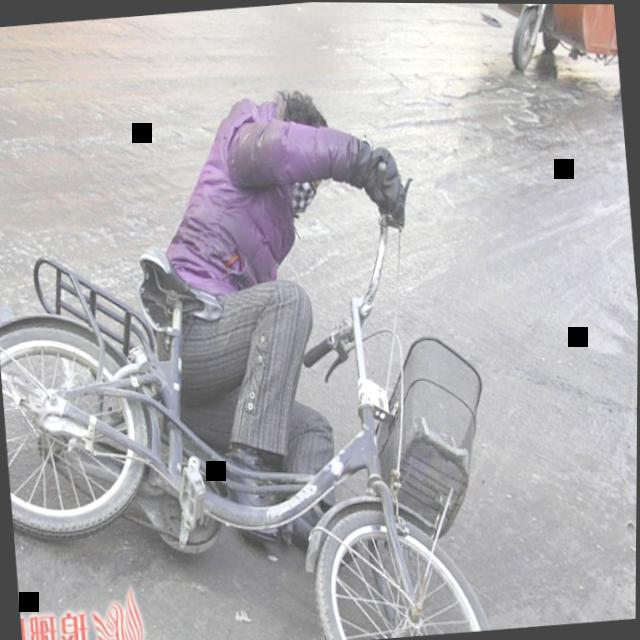Fall-Detected: (98, 48, 449, 552)
